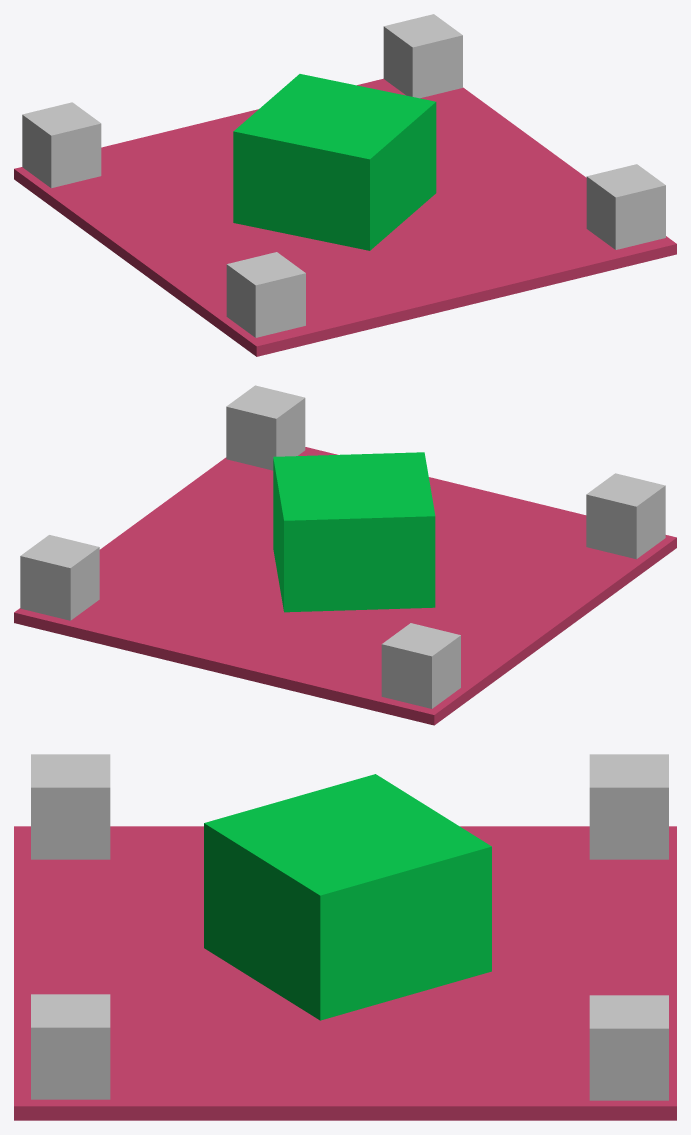
Rendered from Test_LightCamera.dae.
The picture shows the model from 3 angles, top to bottom: view 1: azimuth 30°, elevation 25°; view 2: azimuth 150°, elevation 25°; view 3: azimuth 270°, elevation 25°; orthographic projection. The views are drawn at different scales.
Visible parts, largest first — view 1: Cube, Cube_005, Cube_002, Cube_004, Cube_003, Cube_001; view 2: Cube, Cube_005, Cube_002, Cube_001, Cube_003, Cube_004; view 3: Cube, Cube_005, Cube_001, Cube_002, Cube_003, Cube_004.
Part boxes in pixels (x1,y1,x2,y2): Cube: (14,78,676,356); Cube_005: (233,74,436,250); Cube_002: (22,102,101,188); Cube_004: (586,164,665,249); Cube_003: (226,252,305,337); Cube_001: (383,14,462,98); Cube: (14,447,676,725); Cube_005: (273,452,435,612); Cube_002: (381,623,460,708); Cube_001: (20,535,99,620); Cube_003: (586,473,665,559); Cube_004: (226,385,305,470); Cube: (14,826,676,1120); Cube_005: (204,774,491,1020); Cube_001: (589,995,668,1100); Cube_002: (589,754,668,859); Cube_003: (31,754,110,859); Cube_004: (31,994,110,1099).
Bounding box in the file's own units: 16.73 × 16.73 × 5.23.
